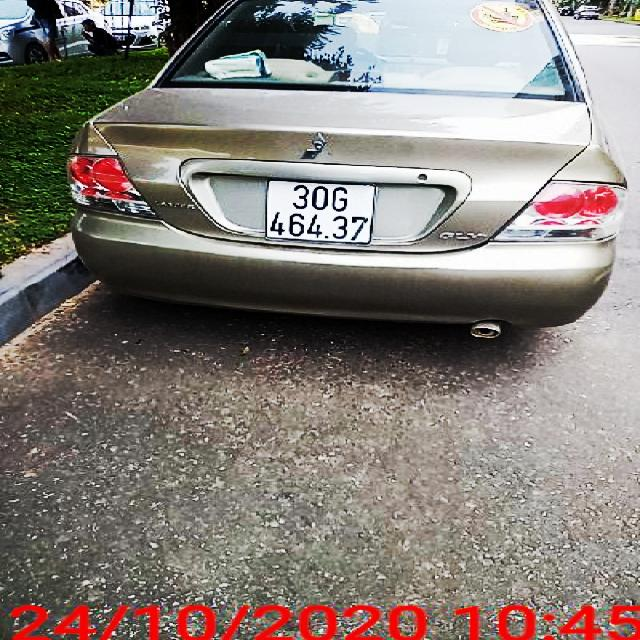license_plate: (267, 180, 380, 247)
